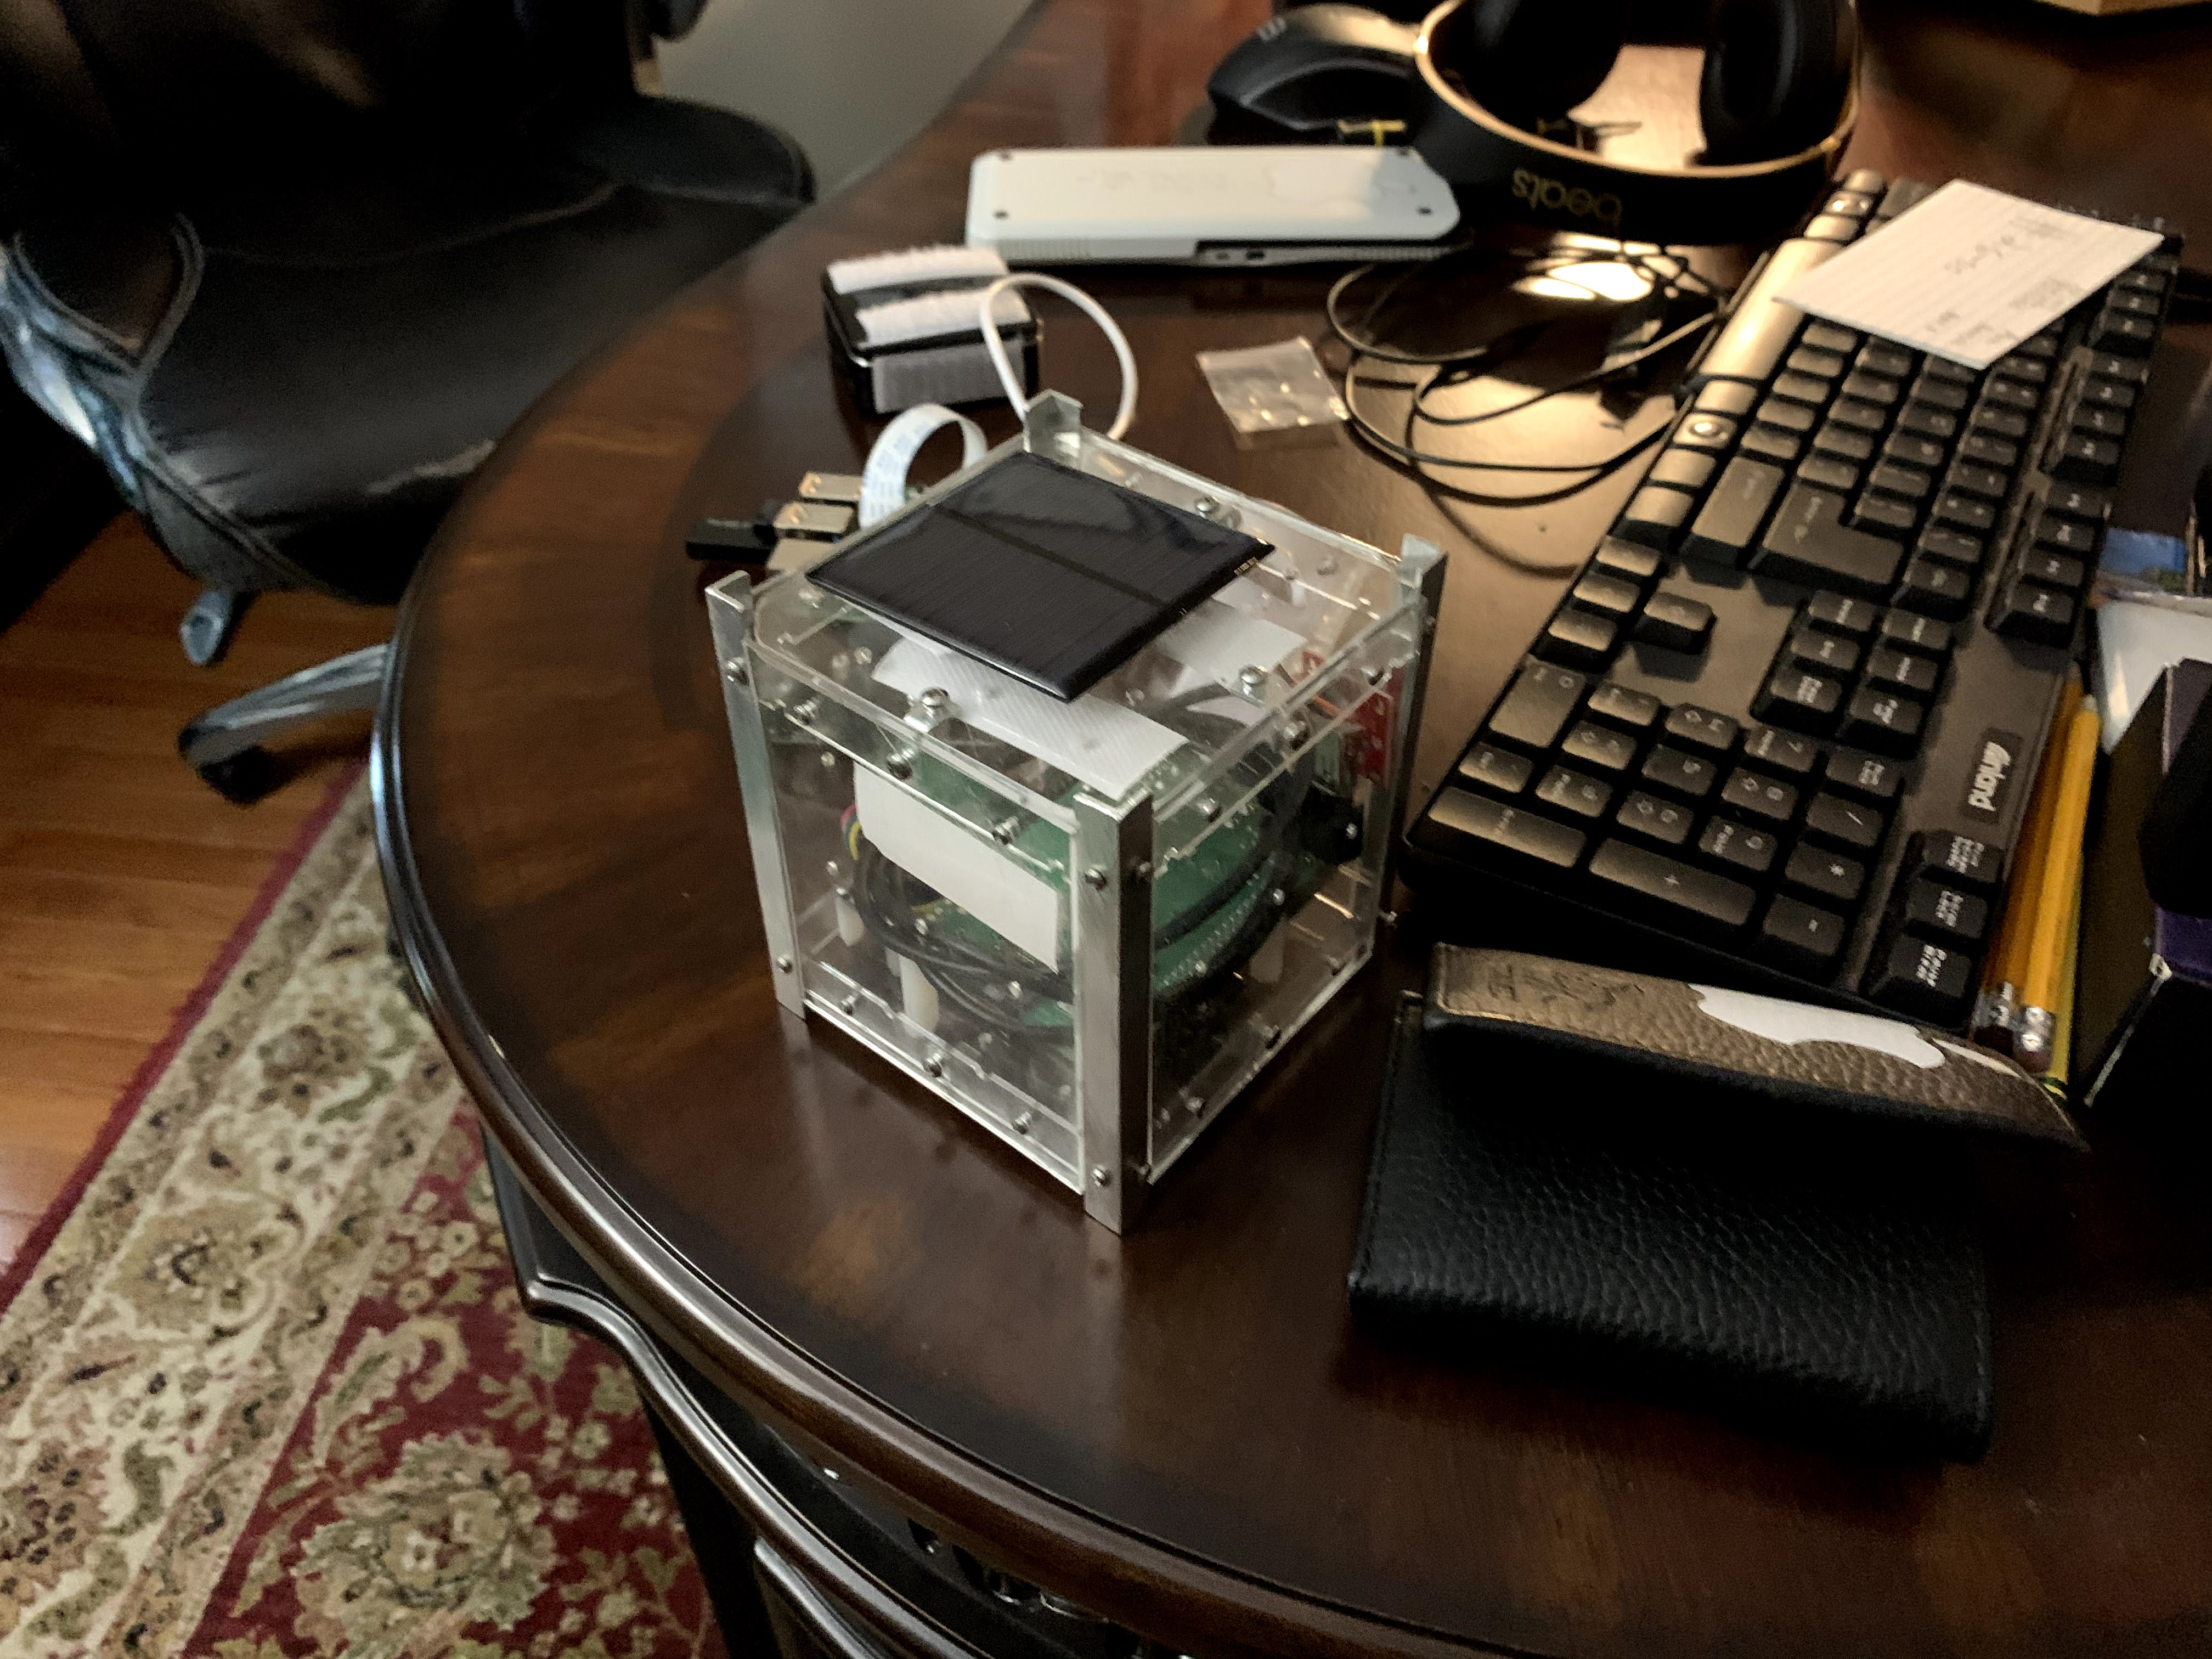Space-debris-cubesat: (618, 376, 1475, 1269)
